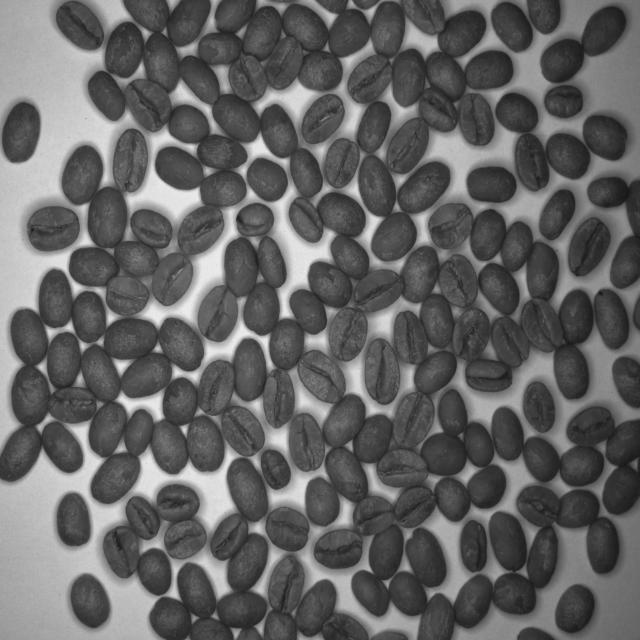good: (15, 199, 85, 258), (342, 262, 409, 322), (427, 2, 492, 62), (394, 153, 453, 219), (560, 212, 614, 284), (218, 457, 276, 522), (479, 310, 536, 376), (403, 521, 456, 591), (580, 0, 632, 69), (448, 85, 498, 156), (357, 337, 409, 405), (549, 340, 601, 408), (542, 582, 604, 639), (386, 477, 442, 540), (274, 0, 333, 59), (154, 508, 212, 568), (342, 487, 404, 543), (322, 444, 374, 510), (283, 407, 332, 477), (90, 452, 149, 510), (446, 297, 494, 368), (137, 25, 183, 99), (58, 136, 105, 208), (294, 571, 343, 640), (518, 294, 570, 359), (578, 508, 625, 578), (581, 108, 634, 170), (319, 303, 371, 366), (194, 274, 242, 342), (346, 48, 397, 112), (520, 234, 568, 302), (0, 97, 44, 171), (337, 564, 396, 619), (414, 286, 461, 355), (472, 260, 526, 320), (123, 76, 175, 138), (84, 184, 130, 254), (386, 113, 434, 180), (524, 518, 563, 600), (389, 387, 436, 455), (425, 196, 482, 252), (120, 350, 178, 405), (48, 486, 96, 552), (510, 133, 558, 199), (486, 512, 531, 582), (532, 181, 578, 249), (590, 286, 634, 357), (210, 89, 262, 149), (81, 399, 132, 460), (264, 499, 315, 560), (434, 249, 484, 311), (367, 210, 422, 266), (260, 35, 308, 99), (486, 2, 538, 61), (4, 305, 51, 369), (320, 392, 367, 456), (34, 264, 78, 332), (543, 128, 592, 189), (516, 378, 564, 440), (261, 554, 309, 616), (310, 252, 355, 318), (578, 165, 634, 218), (459, 43, 516, 95), (551, 482, 608, 534), (307, 528, 364, 580), (168, 558, 219, 616), (79, 341, 125, 405), (149, 252, 198, 312), (515, 477, 563, 538), (348, 98, 395, 160), (557, 280, 598, 351), (415, 429, 472, 480), (186, 413, 228, 482), (109, 127, 152, 194), (461, 459, 509, 519), (101, 16, 145, 81), (172, 206, 227, 258), (145, 411, 189, 476), (7, 366, 53, 428), (450, 573, 496, 635), (262, 316, 312, 373), (420, 47, 470, 104), (463, 161, 520, 211), (42, 416, 89, 476), (158, 315, 205, 375), (54, 0, 106, 54), (103, 314, 160, 363), (70, 576, 118, 634), (539, 30, 585, 90), (214, 403, 268, 454), (323, 5, 374, 59), (217, 233, 262, 294), (226, 534, 271, 595), (284, 286, 332, 343), (259, 364, 299, 432), (296, 89, 348, 141), (322, 140, 367, 200), (83, 69, 130, 126), (208, 512, 254, 570), (561, 406, 619, 452), (0, 426, 43, 488), (155, 377, 206, 429), (488, 570, 541, 620), (314, 194, 374, 238), (148, 481, 204, 528), (294, 46, 345, 97), (236, 287, 286, 339), (241, 3, 285, 62), (464, 208, 510, 264), (104, 270, 154, 321), (347, 412, 396, 464), (376, 449, 435, 492), (256, 103, 298, 163), (70, 288, 108, 354), (366, 1, 409, 59), (300, 475, 343, 533), (223, 50, 269, 104), (192, 168, 254, 208), (495, 214, 536, 274), (253, 233, 296, 290), (126, 204, 176, 253), (537, 77, 588, 125), (45, 331, 85, 392), (556, 438, 602, 491), (431, 387, 476, 441), (323, 234, 378, 278), (360, 156, 396, 223), (102, 526, 145, 582), (154, 148, 204, 196), (44, 384, 104, 424), (404, 240, 444, 300), (226, 54, 272, 106), (229, 341, 268, 402), (388, 567, 432, 621), (496, 88, 543, 138), (412, 590, 459, 640), (214, 592, 271, 633), (197, 131, 250, 175), (196, 358, 238, 413), (458, 516, 493, 582), (388, 49, 427, 108), (167, 99, 213, 149), (179, 58, 225, 108), (364, 530, 410, 580), (414, 348, 458, 400), (67, 246, 124, 286), (123, 491, 164, 546), (492, 405, 528, 467), (394, 306, 431, 366), (288, 146, 329, 200), (120, 399, 155, 462), (289, 194, 328, 250), (604, 464, 640, 524), (417, 85, 458, 137), (433, 474, 475, 524), (246, 157, 289, 204), (523, 432, 564, 481), (114, 243, 164, 280), (460, 424, 502, 468), (196, 28, 243, 66), (149, 596, 191, 638), (140, 548, 176, 596), (231, 203, 277, 235)
